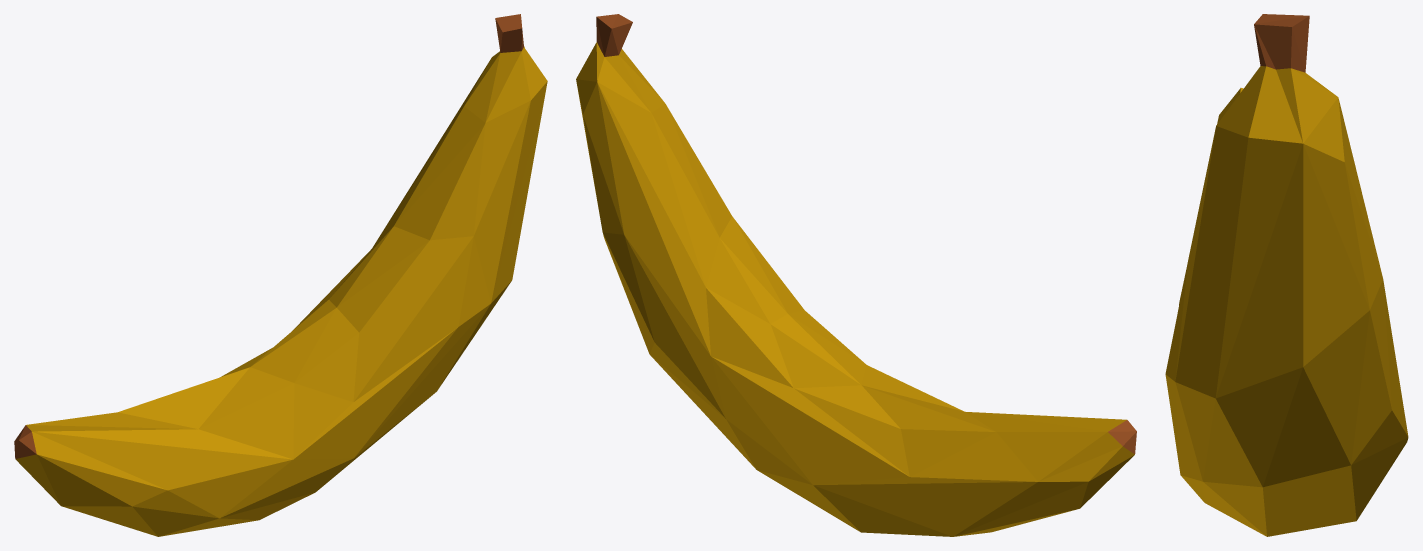
Rendered from Banana_0.fbx.
3 views of the same model, side by side, from view 1: azimuth 30°, elevation 25°; view 2: azimuth 150°, elevation 25°; view 3: azimuth 270°, elevation 25° (orthographic). The views are drawn at different scales.
Parts seen in each view (by area): view 1: Cylinder.012; view 2: Cylinder.012; view 3: Cylinder.012.
Boxes of the visible parts, x1,y1,x2,y2 form: Cylinder.012: [14, 14, 547, 536]; Cylinder.012: [576, 14, 1136, 536]; Cylinder.012: [1165, 14, 1408, 536].
Size of the model in its own units: 152 by 490 by 632.
